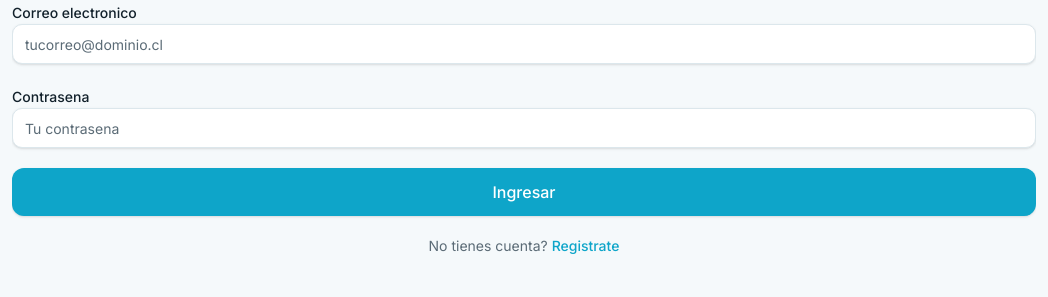
it: AuthForm (login) › rechaza un email con formato invalido
The width and height of the screenshot is (1048, 297).
Type "no-es-correo" into the field labelled "Correo electronico".
click(524, 44); type("no-es-correo")  # box [12, 24, 1036, 64]
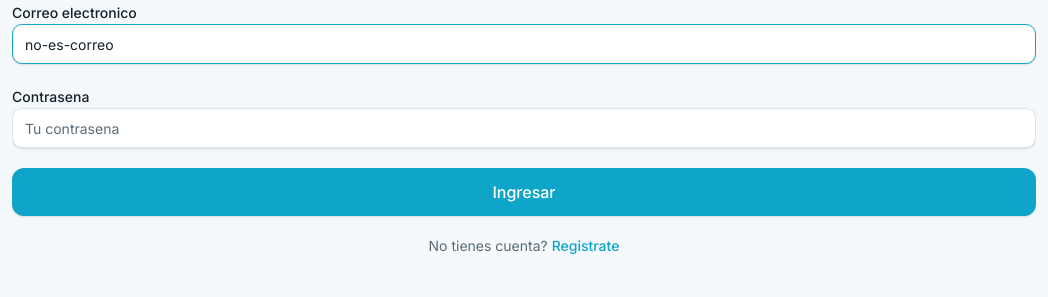
Type "secreto1" into the password field labelled "Contrasena".
click(524, 128); type("secreto1")  # box [12, 108, 1036, 148]
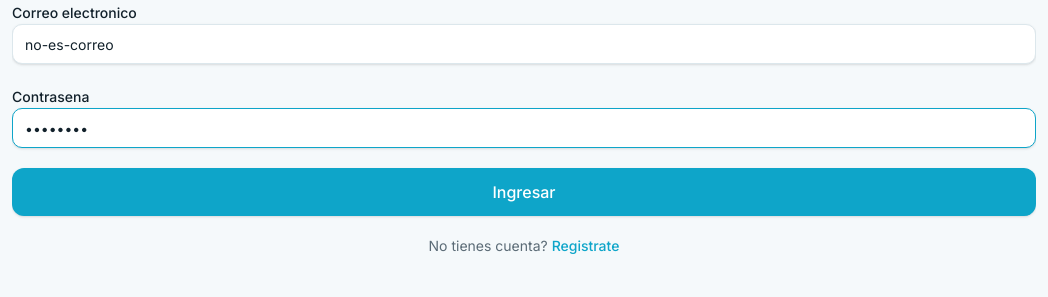
Click the button "Ingresar".
click(524, 192)  # box [12, 168, 1036, 216]
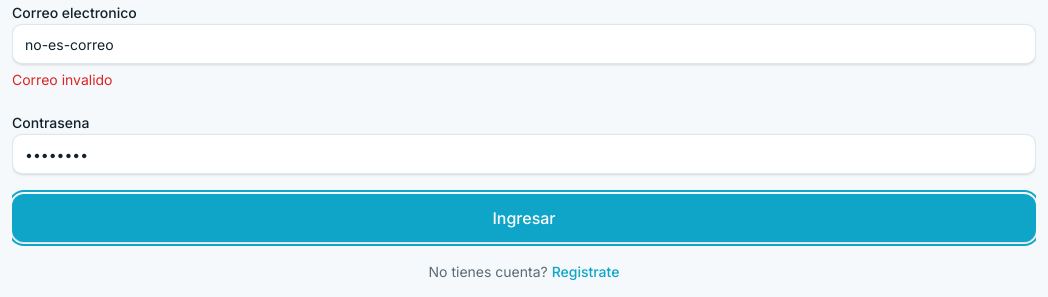
Expected: the text "Correo invalido" is shown, [12, 71, 112, 88]
